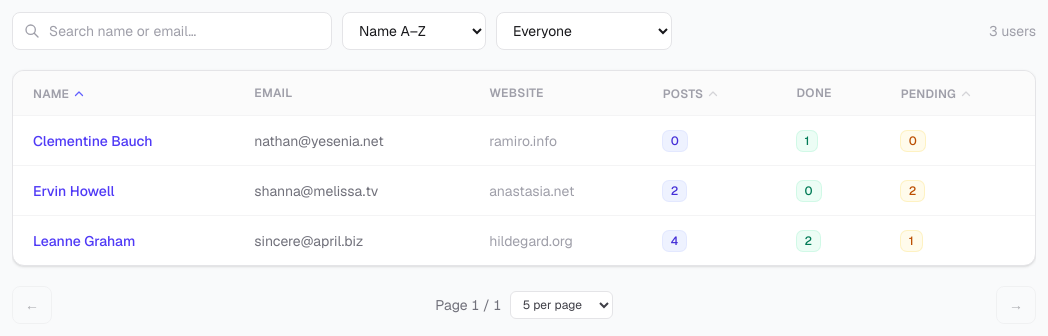
Scenario: UsersClient › Search filter › filters users by name (case insensitive)
Type "ervin" into the search field at (172, 31), box [12,12,332,50]
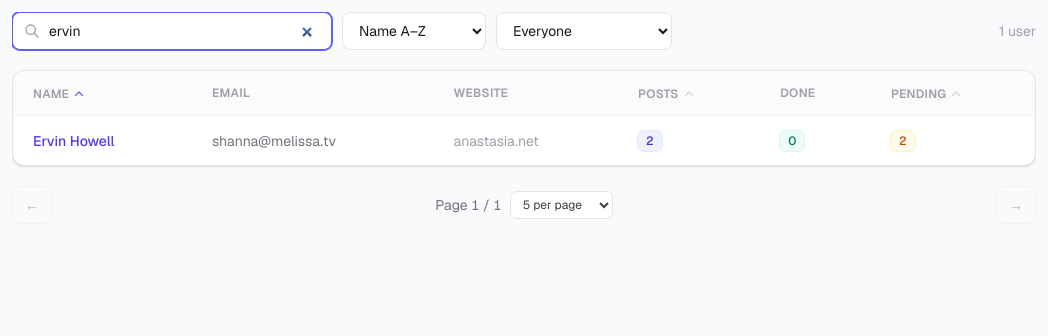
Expected: the link "Ervin Howell" is shown, [33,132,114,150]
Expected: no links "Leanne Graham" are shown
